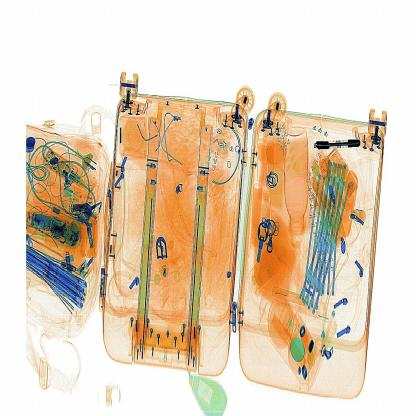knife: (311, 129, 365, 163)
